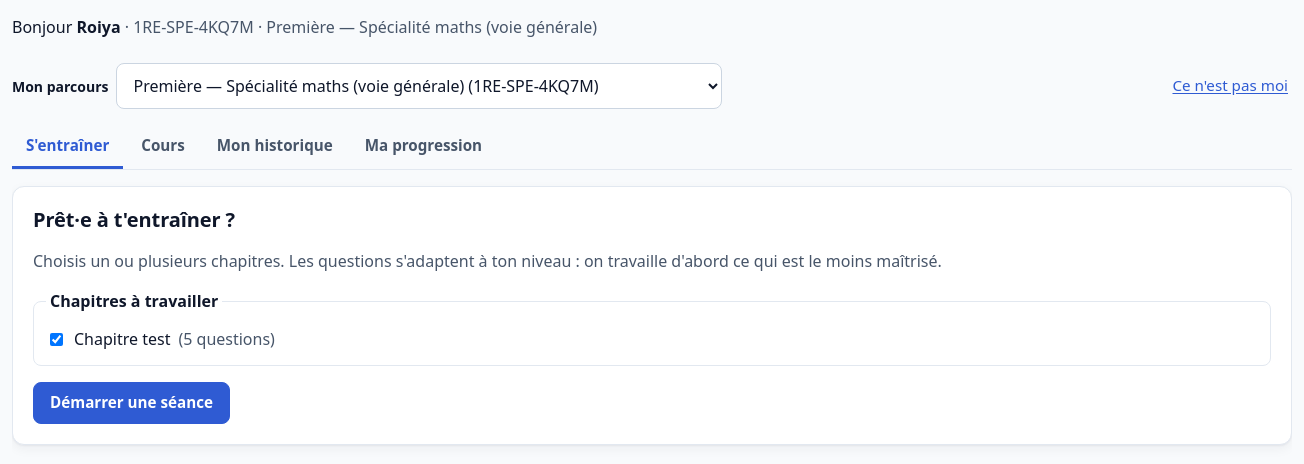
Test: même élève dans plusieurs parcours › affiche le parcours à côté du prénom et bascule vers un parcours relié
Expected: the text "1RE-SPE-4KQ7M · Première — Spécialité maths (voie générale)" is shown, [125, 16, 597, 38]
Select "Première — Mise à niveau (bases de l'année précédente) (1RE-MAN-9TRBX)" in the dropdown labelled "Mon parcours" at (420,86), box [116, 63, 722, 109]
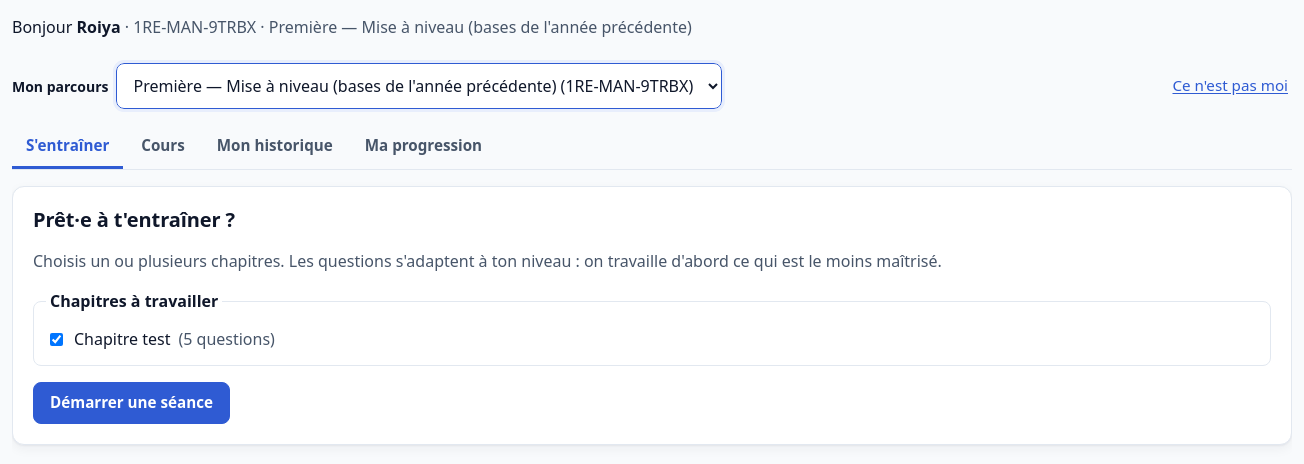
Now the text "1RE-MAN-9TRBX · Première — Mise à niveau" is shown, box [125, 16, 692, 38]
